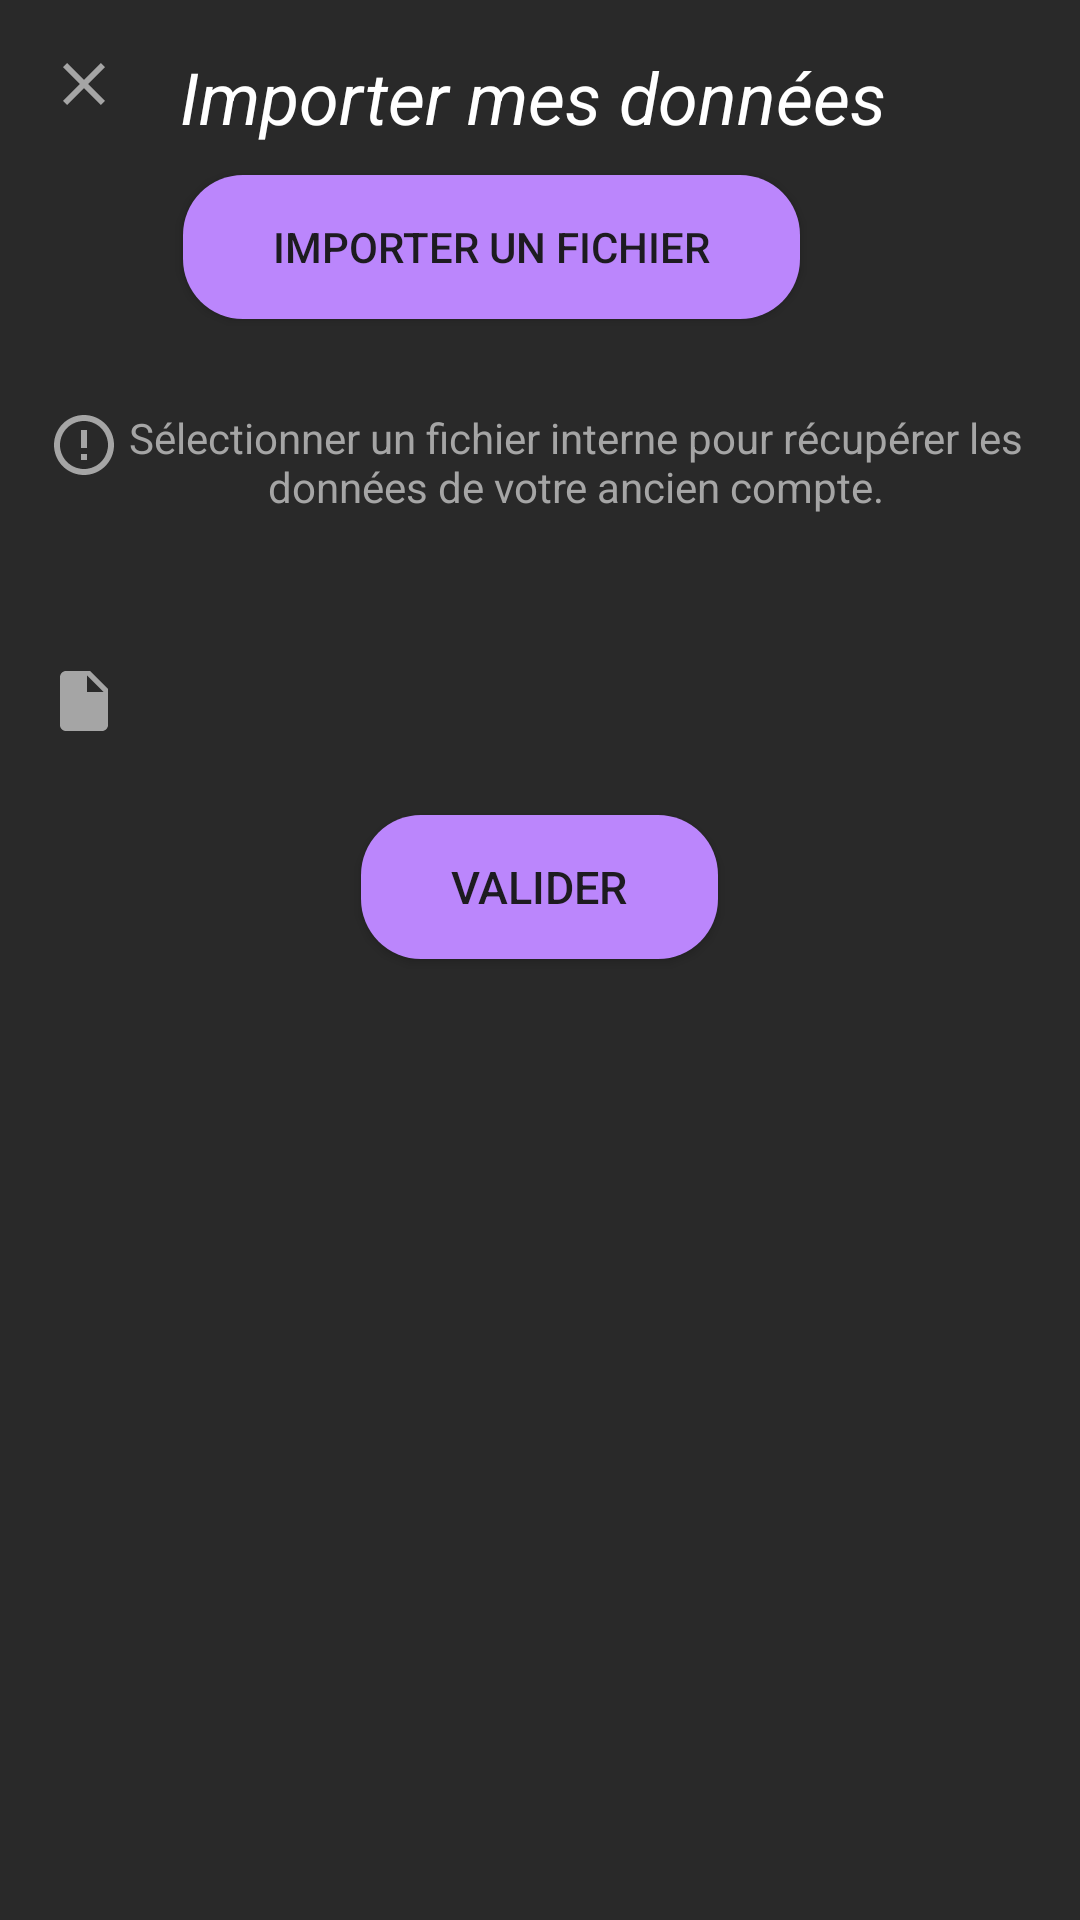

Named icons in this screenshot (1080px×1920px) and their centers, point (x, y):
close: point (84, 84)
file: point (84, 701)
